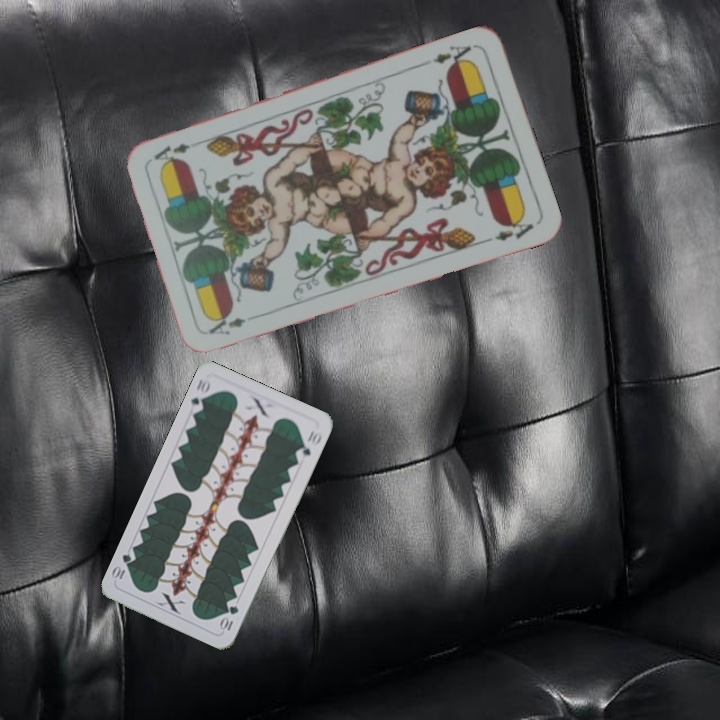EA: (428, 41, 476, 71), (204, 309, 249, 338)
G10: (187, 374, 213, 415), (217, 601, 241, 634)
